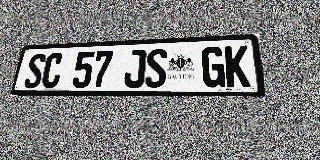5: (72, 52, 95, 88)
7: (90, 51, 114, 88)
C: (40, 53, 64, 88)
G: (202, 46, 226, 87)
J: (124, 49, 146, 88)
K: (225, 45, 251, 87)
S: (145, 49, 167, 88), (23, 53, 47, 88)
